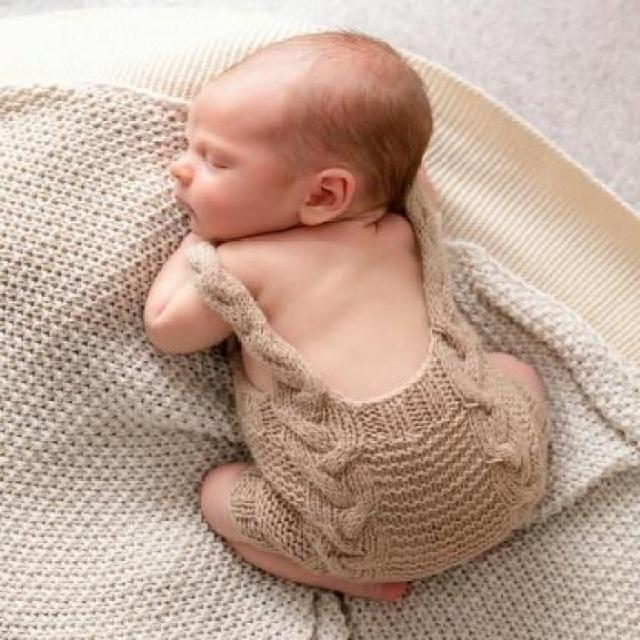baby: (140, 31, 548, 598)
